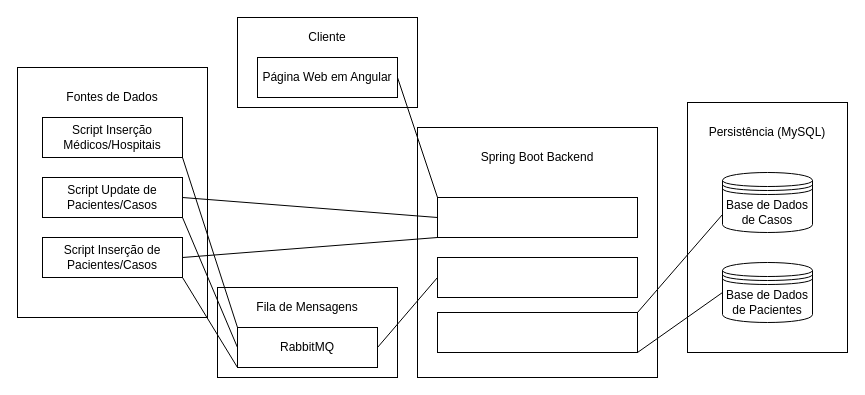
Some shapes in this 865 by 395 pixel diagram are drawn without their labels. Here are the shapes that lost their labels. From the top down, the box of each, then its label:
(436, 196, 638, 238): Restful API
(436, 256, 638, 298): Processamento e Lógica de Negócio
(436, 312, 638, 352): Acesso a Dados
